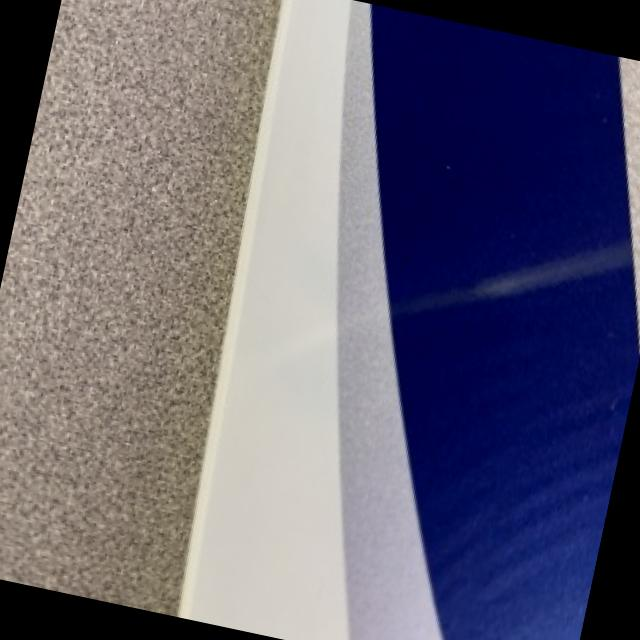healthy: (181, 0, 640, 640), (0, 0, 283, 611)
